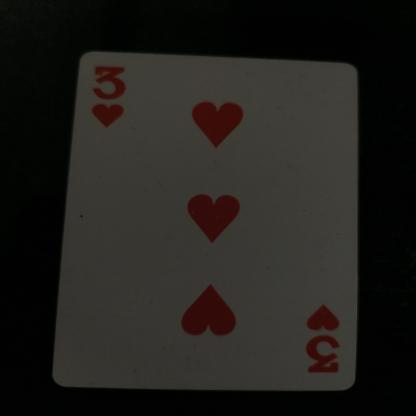3H: (80, 67, 153, 135), (295, 305, 347, 381)
